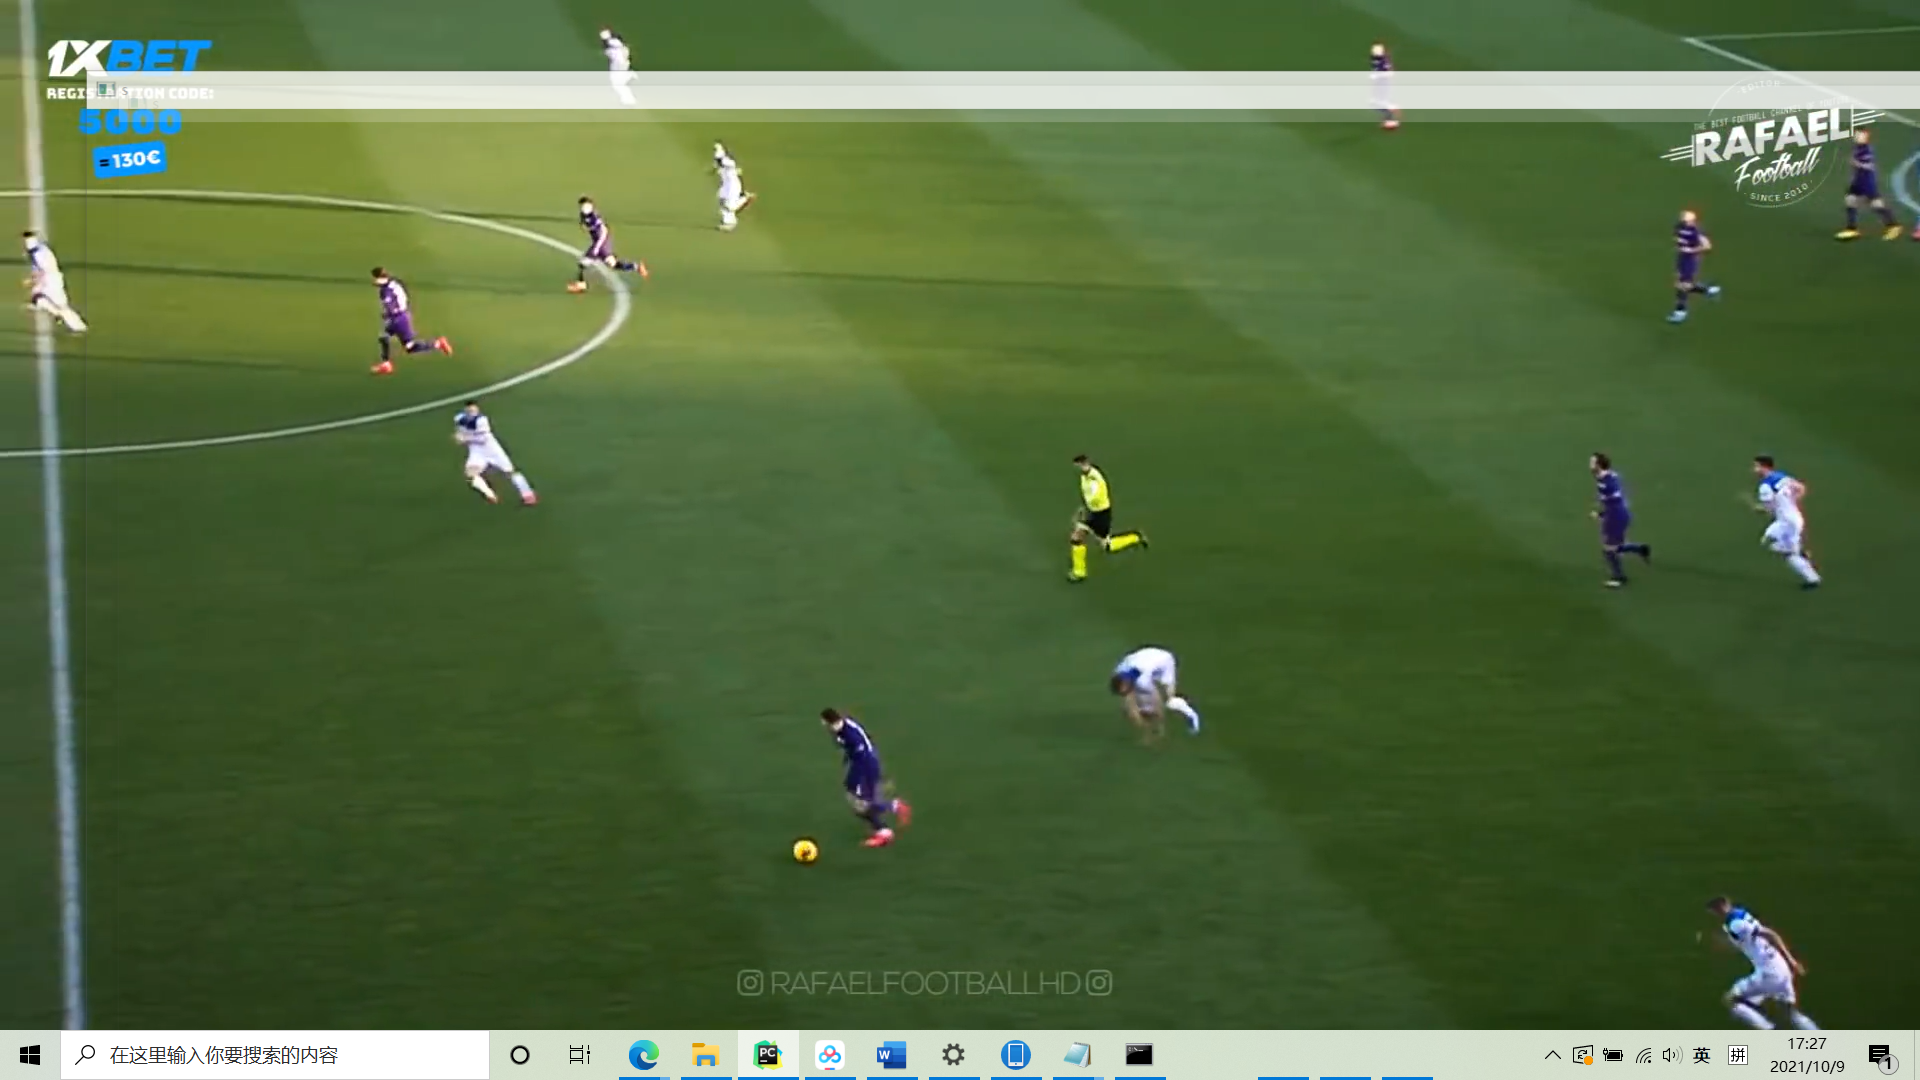ft: (790, 837, 819, 866)
